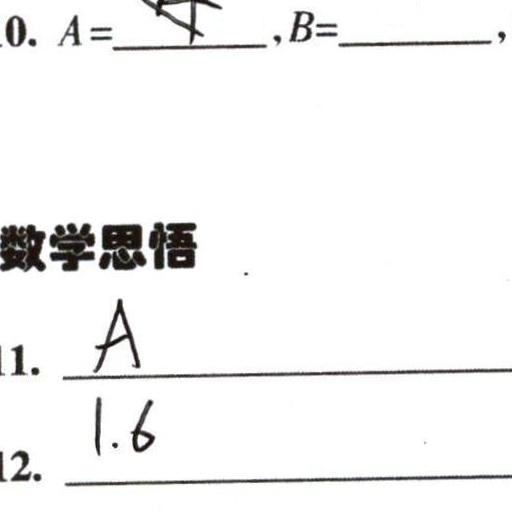ans: (83, 390, 156, 458), (87, 293, 142, 372)
